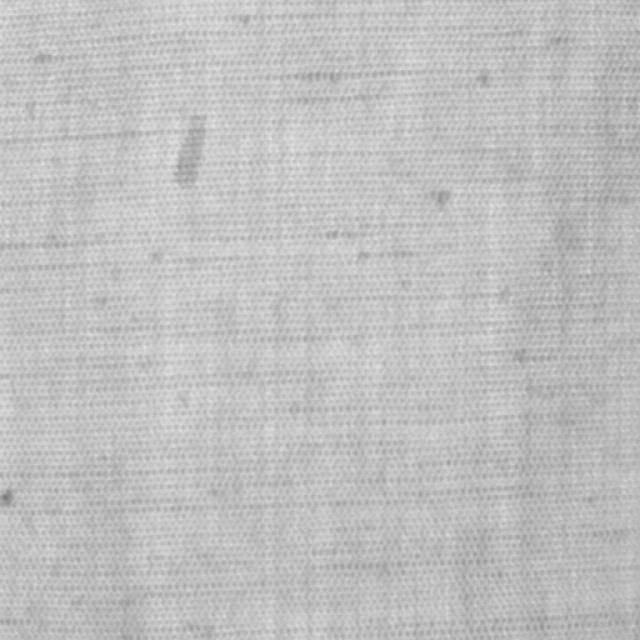oil spot: (171, 108, 211, 192)
